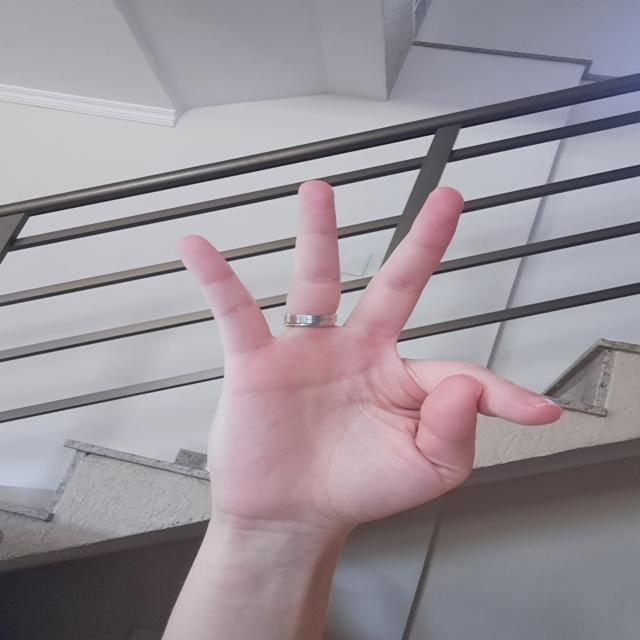T: (168, 175, 568, 539)
